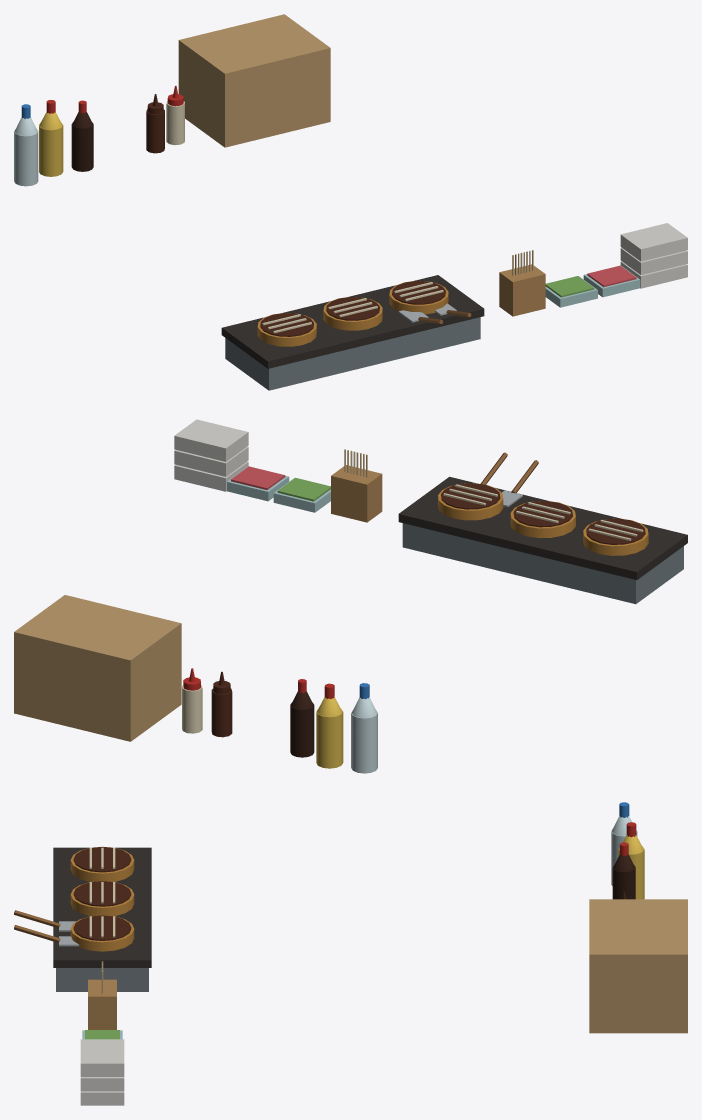
File: goods_okonomiyaki.glb
3 views of the same model, one above another, from view 1: azimuth 30°, elevation 25°; view 2: azimuth 150°, elevation 25°; view 3: azimuth 270°, elevation 25° (orthographic). The views are drawn at different scales.
Visible parts, largest first — view 1: goods_okonomiyaki; view 2: goods_okonomiyaki; view 3: goods_okonomiyaki.
Boxes of the visible parts, bbox=[...] form: goods_okonomiyaki: bbox=[14, 14, 687, 390]; goods_okonomiyaki: bbox=[14, 419, 687, 773]; goods_okonomiyaki: bbox=[14, 802, 687, 1105].
Bounding box in the file's own units: 1.84 × 0.3409 × 2.33.
